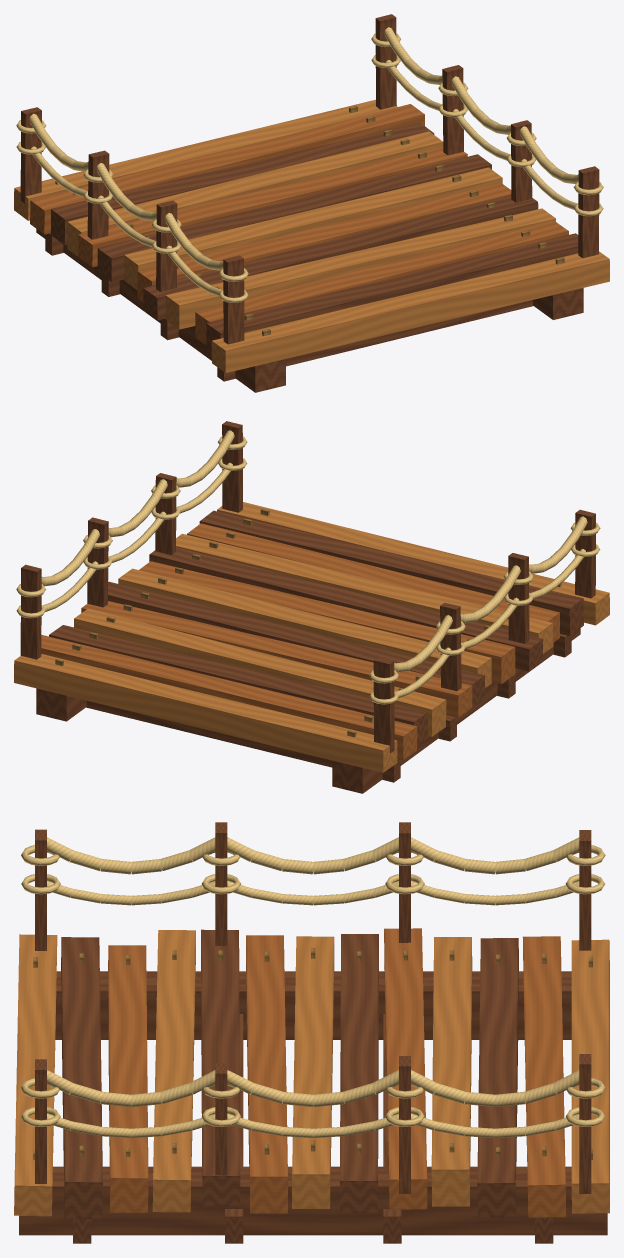
The model's file is stage_select_bridge.obj.
The picture shows the model from 3 angles, top to bottom: view 1: azimuth 30°, elevation 25°; view 2: azimuth 150°, elevation 25°; view 3: azimuth 270°, elevation 25°; orthographic projection. The views are drawn at different scales.
Parts seen in each view (by area): view 1: stage_select_bridge; view 2: stage_select_bridge; view 3: stage_select_bridge.
Boxes of the visible parts, x1,y1,x2,y2 form: stage_select_bridge: (14,14,609,392); stage_select_bridge: (14,421,609,793); stage_select_bridge: (14,822,609,1243).
Bounding box in the file's own units: 1.91 × 0.6479 × 1.88.
5 materials, 5 textured.
